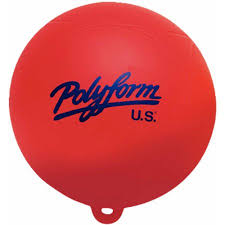buoy: (10, 3, 216, 206)
